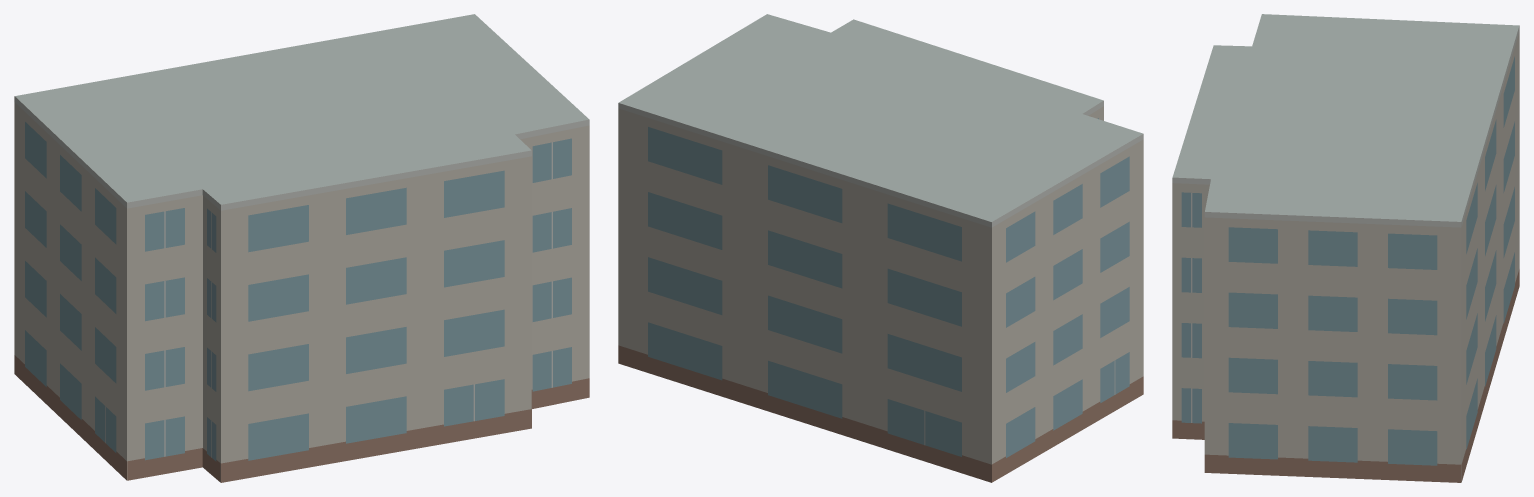
File: survey-upis-33046456.glb
3 views of the same model, side by side, from view 1: azimuth 30°, elevation 25°; view 2: azimuth 150°, elevation 25°; view 3: azimuth 270°, elevation 25° (orthographic). The views are drawn at different scales.
Visible parts, largest first — view 1: survey-upis-33046456.tmp; view 2: survey-upis-33046456.tmp; view 3: survey-upis-33046456.tmp.
Part boxes in pixels (box(x1,y1,x2,y2)): survey-upis-33046456.tmp: box(14, 14, 589, 482); survey-upis-33046456.tmp: box(618, 14, 1143, 482); survey-upis-33046456.tmp: box(1172, 14, 1519, 482).
Size of the model in its own units: 19.49 by 11.4 by 13.75.
